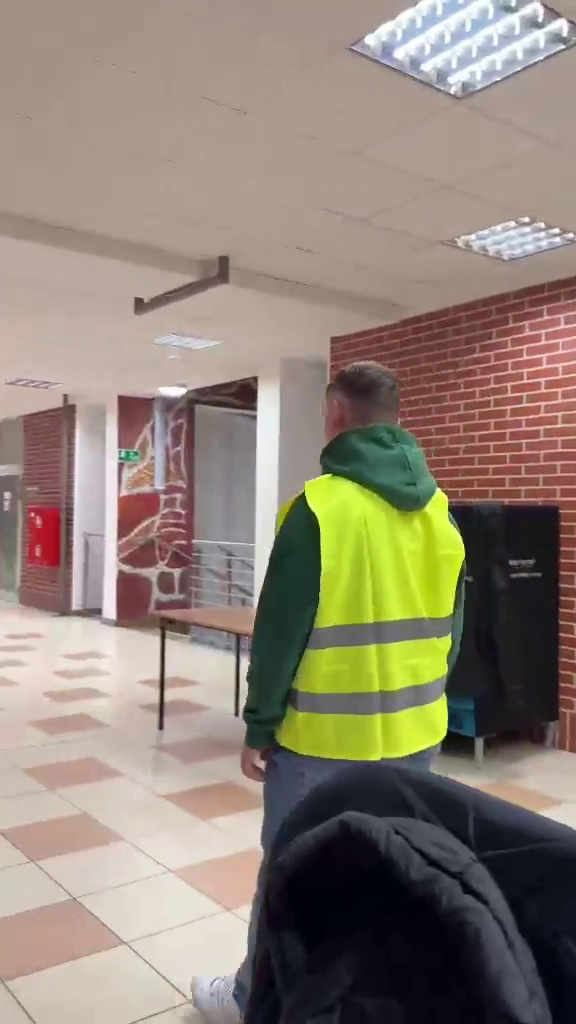vest: (239, 367, 480, 771)
